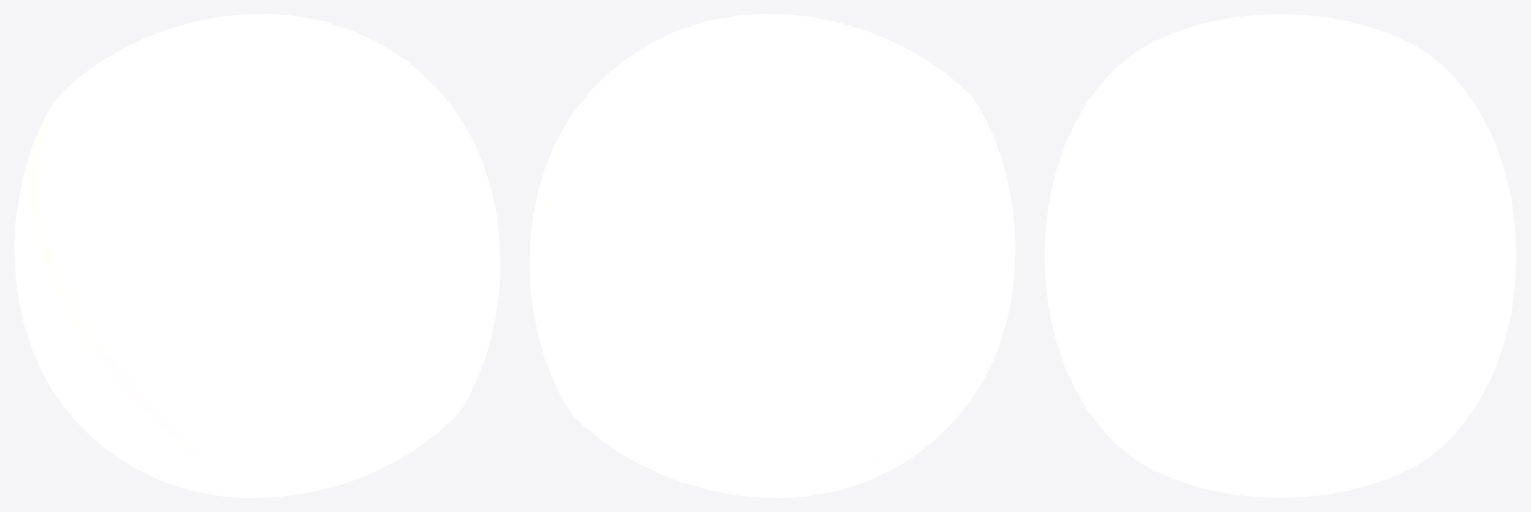
3 renders of one model, left to right at view 1: azimuth 30°, elevation 25°; view 2: azimuth 150°, elevation 25°; view 3: azimuth 270°, elevation 25°, orthographic.
Parts seen in each view (by area): view 1: Cube; view 2: Cube; view 3: Cube.
Part boxes in pixels (x1,y1,x2,y2): Cube: [14, 14, 500, 497]; Cube: [529, 14, 1015, 497]; Cube: [1044, 14, 1516, 497].
Bounding box in the file's own units: 905 × 905 × 905.
Materials: 1 (1 with a texture image).
